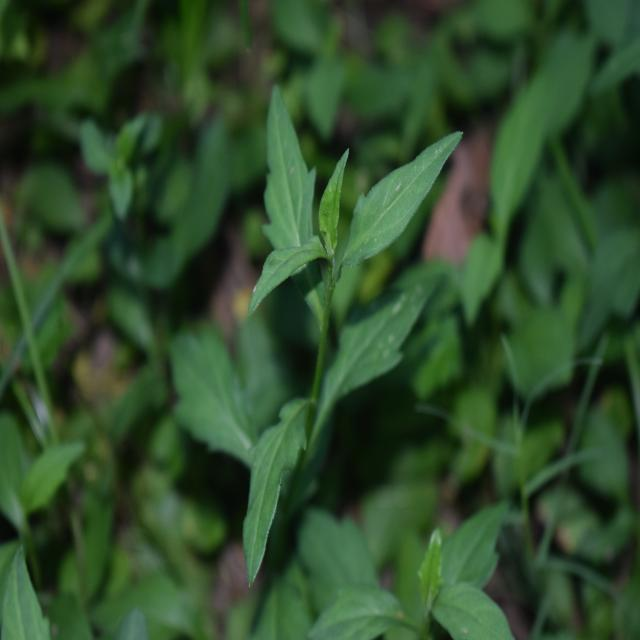Indian aster: (200, 84, 458, 572)
